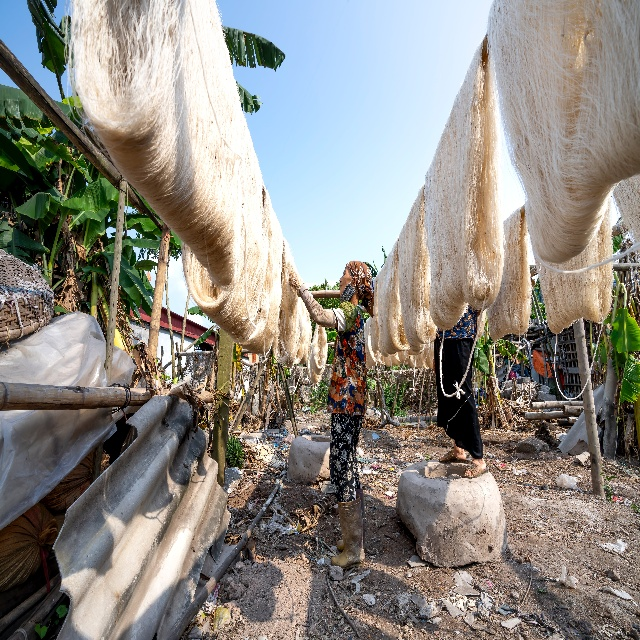Guantes: (288, 270, 305, 298)
Mascara: (339, 277, 357, 304)
Sin_guantes: (288, 271, 298, 288)
